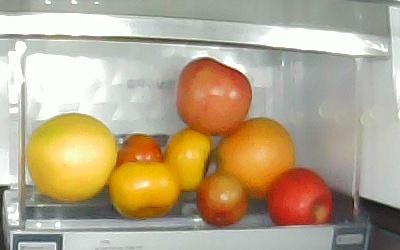apple: (177, 58, 252, 135), (267, 168, 334, 226)
grapefruit: (29, 113, 117, 202), (217, 117, 295, 199)
persimmon: (110, 161, 181, 220), (165, 128, 211, 190)
prune: (197, 173, 248, 228), (117, 134, 165, 163)
